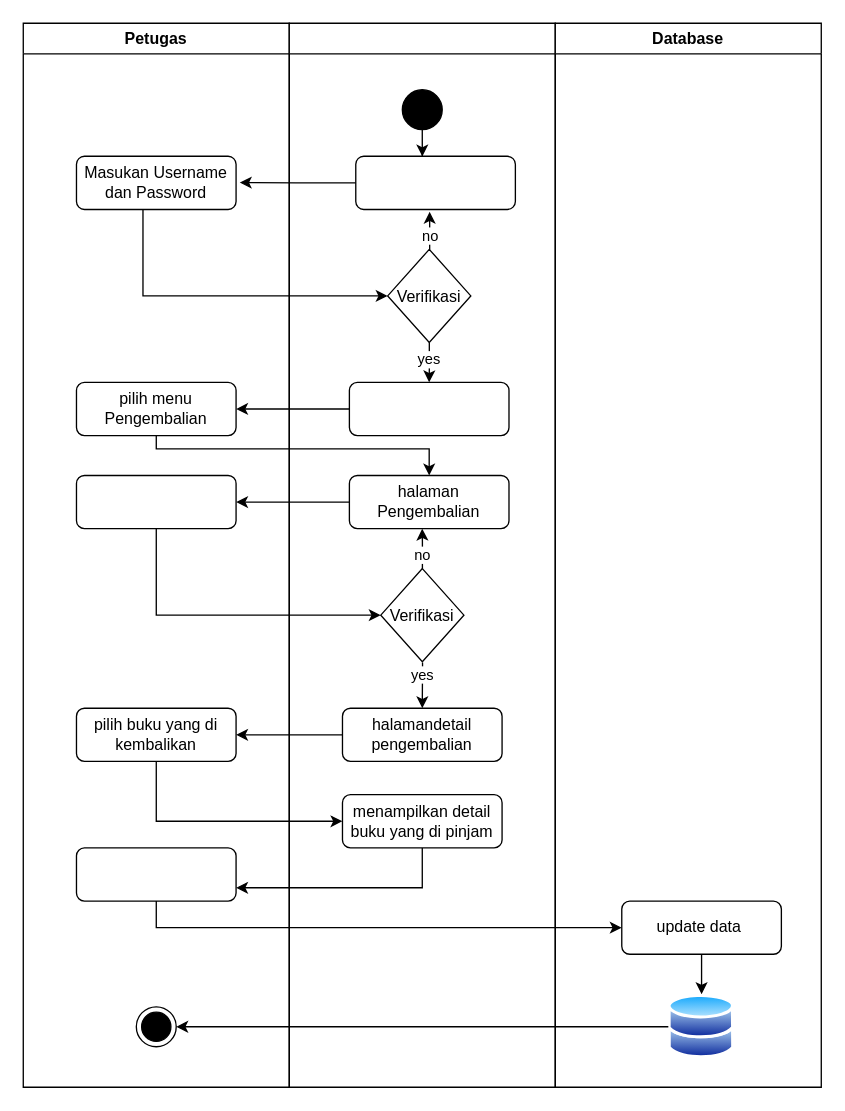
The diagram is 845 pixels wide and 1111 high, and some of its shapes have lost their labels. Each missing label, with the box of its shape:
Halaman Dashboard: (348, 381, 509, 436)
Halaman Login: (354, 155, 515, 209)
masukan ID Anggota: (75, 474, 236, 529)
pilih kembalikan buku: (75, 847, 236, 901)
System: (288, 22, 555, 1087)
